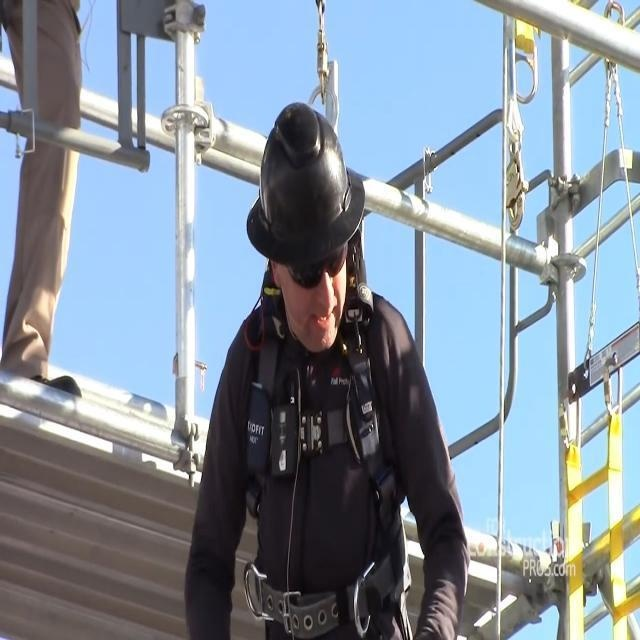Arnes_seguridad: (244, 178, 414, 640)
